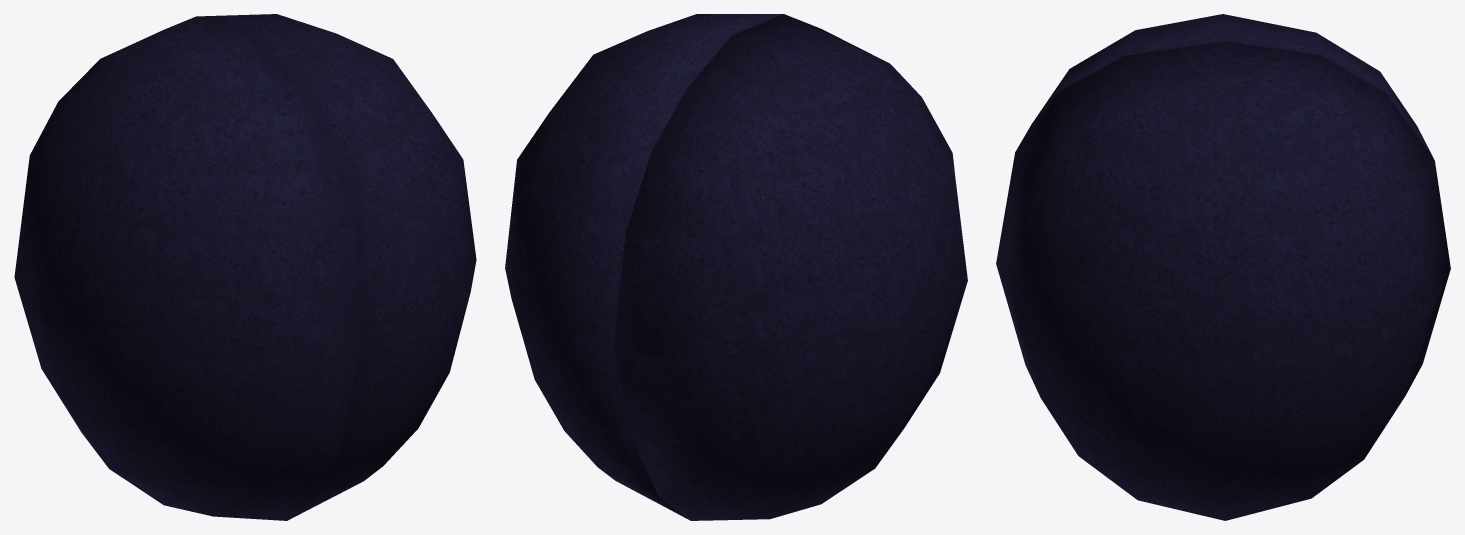
Rendered from plum.fbx.
3 renders of one model, left to right at view 1: azimuth 30°, elevation 25°; view 2: azimuth 150°, elevation 25°; view 3: azimuth 270°, elevation 25°, orthographic.
Parts seen in each view (by area): view 1: plum_part2, plum, plum_part1; view 2: plum_part2, plum, plum_part1; view 3: plum_part1, plum_part2.
Boxes of the visible parts, <box> form: plum_part2: <box>14,16,360,520</box>; plum: <box>14,95,359,520</box>; plum_part1: <box>196,14,476,520</box>; plum_part2: <box>614,14,967,520</box>; plum: <box>614,51,963,520</box>; plum_part1: <box>505,14,783,520</box>; plum_part1: <box>996,41,1450,520</box>; plum_part2: <box>1016,14,1433,158</box>.
Size of the model in its own units: 13.68 by 15.4 by 13.68.
